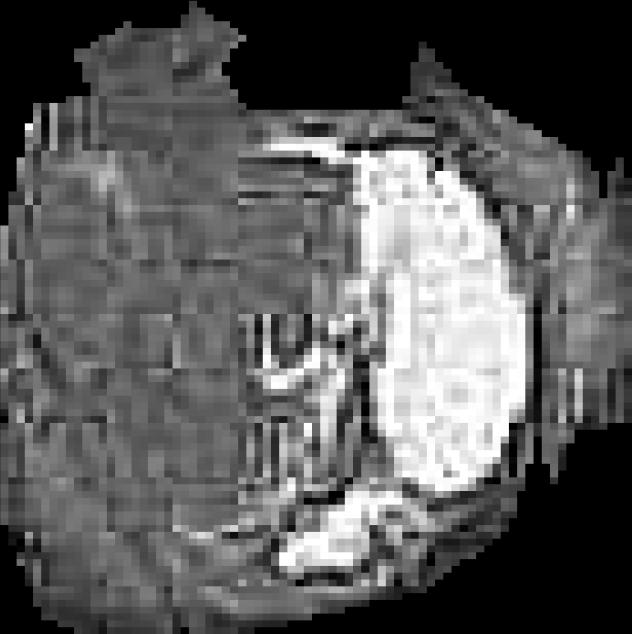tumor_moderate_chance: (0, 1, 632, 634)
